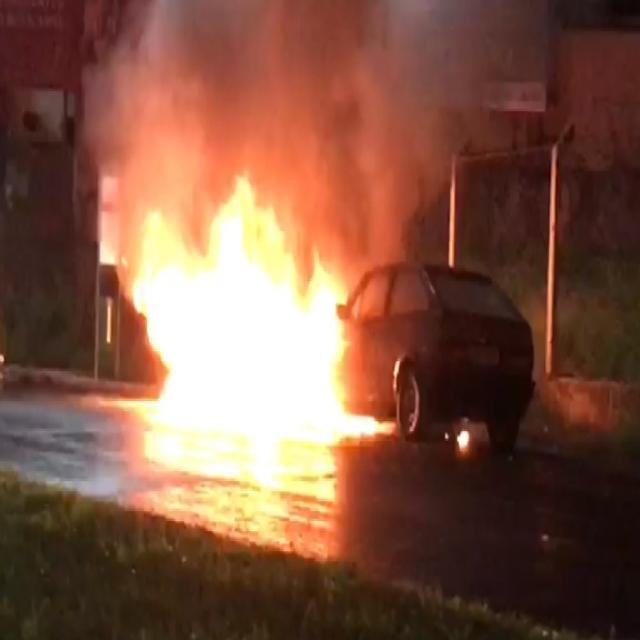Fire: (133, 168, 346, 438)
Smoke: (107, 0, 402, 251)
